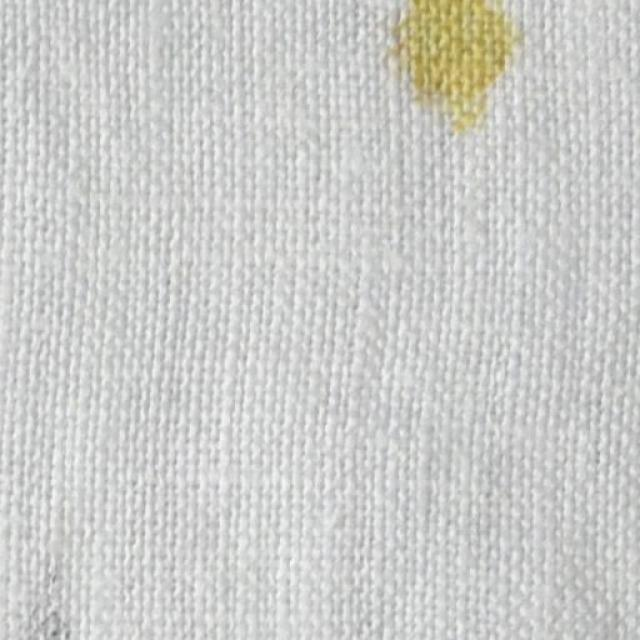Stain: (391, 0, 511, 118), (21, 578, 72, 639)
